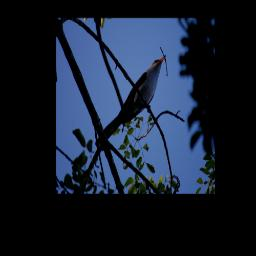Cuckoo: (103, 53, 168, 137)
